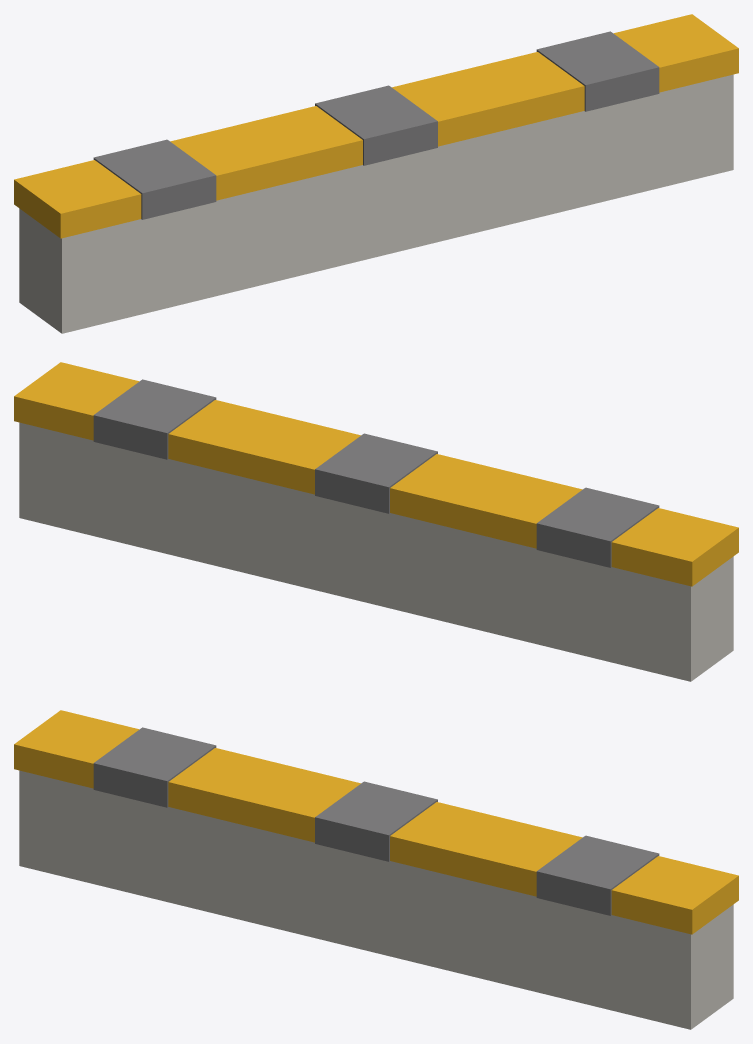
Rendered from rail.glb.
3 renders of one model, top to bottom at view 1: azimuth 30°, elevation 25°; view 2: azimuth 150°, elevation 25°; view 3: azimuth 330°, elevation 25°, orthographic.
Parts seen in each view (by area): view 1: rail; view 2: rail; view 3: rail.
Part boxes in pixels (x1,y1,x2,y2): rail: [14, 14, 738, 333]; rail: [14, 362, 738, 681]; rail: [14, 710, 738, 1029].
Bounding box in the file's own units: 2 × 0.3495 × 0.25.
